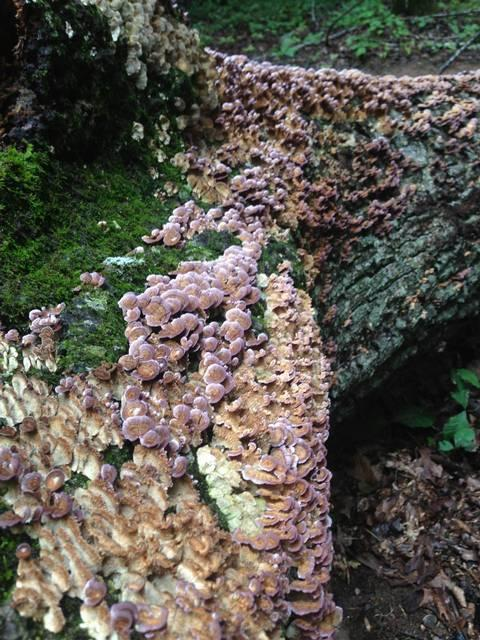poisonous_mushroom: (0, 36, 433, 640)
